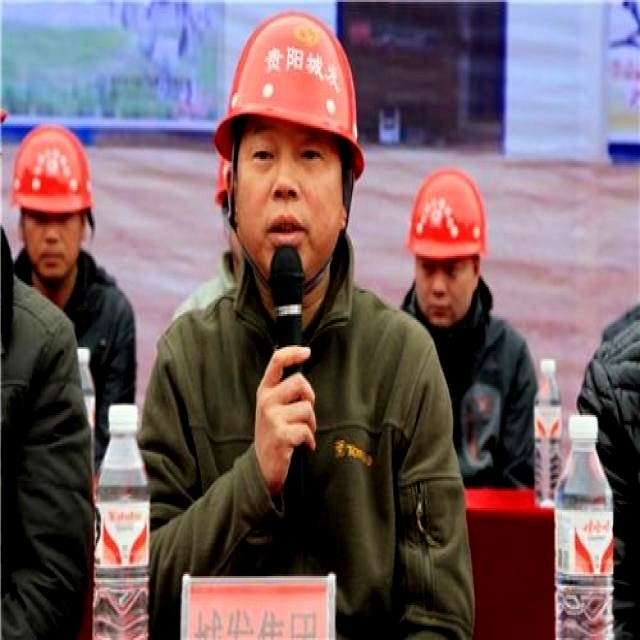Sin_Casco_Mascarrilla: (221, 10, 363, 274)
Sin_Chaleco: (146, 292, 435, 640)
